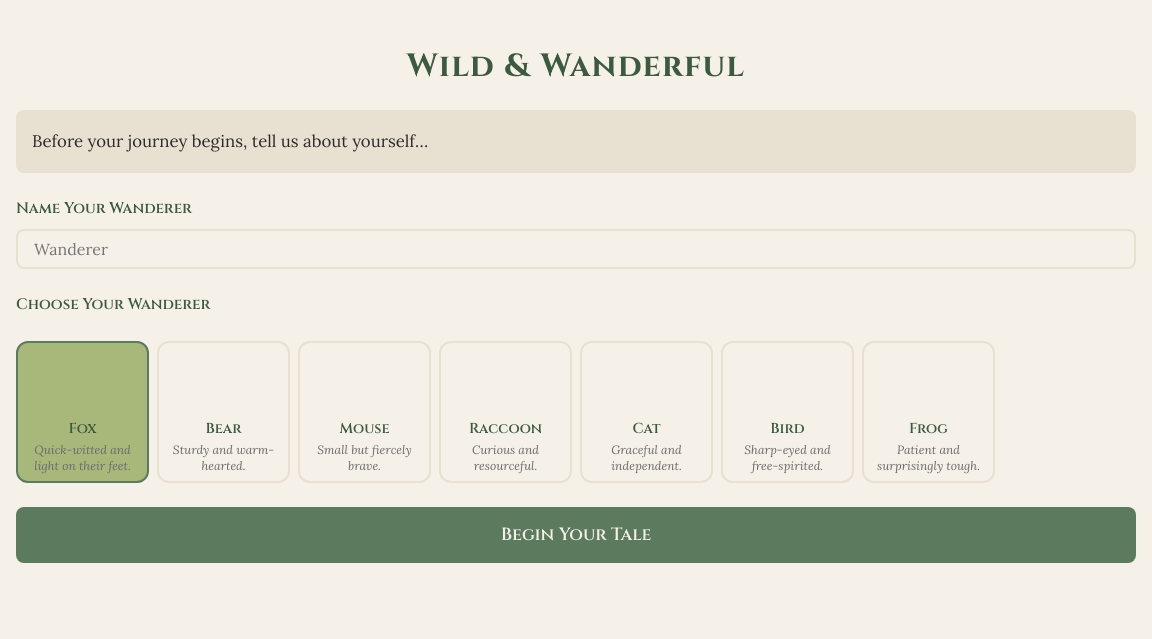
Test: IntroView › renders the narrative text on heirloom step
Click the button with test id "confirm-wanderer". click: (576, 535)
box: [16, 507, 1136, 563]
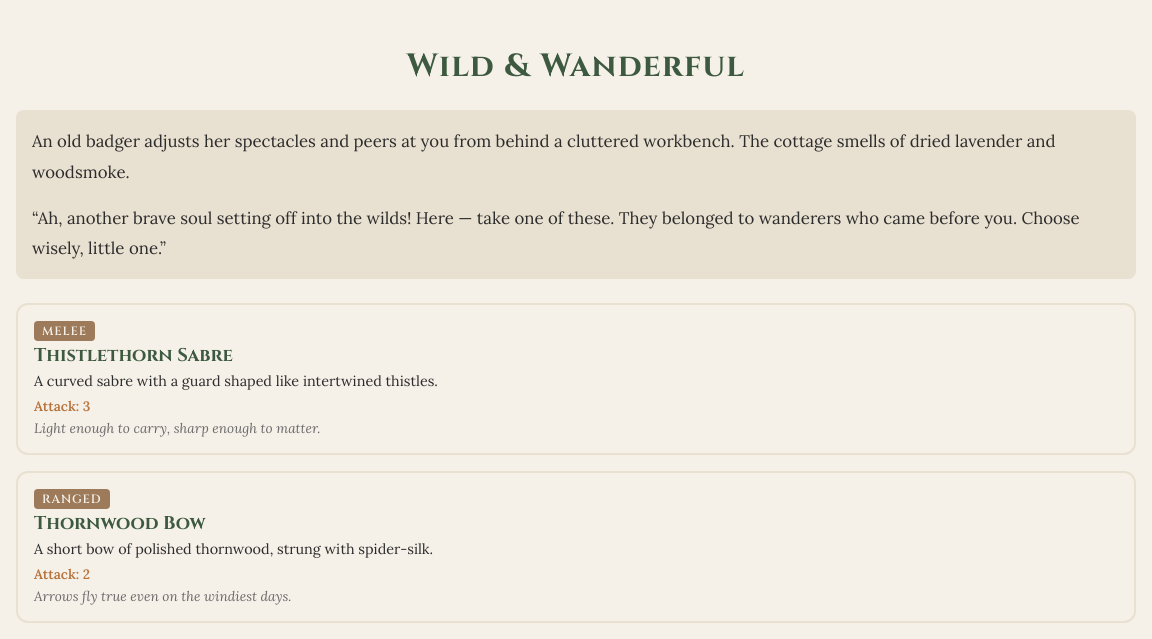
Expected: the element with test id "intro-narrative" shows "old badger", [32, 130, 1056, 183]
